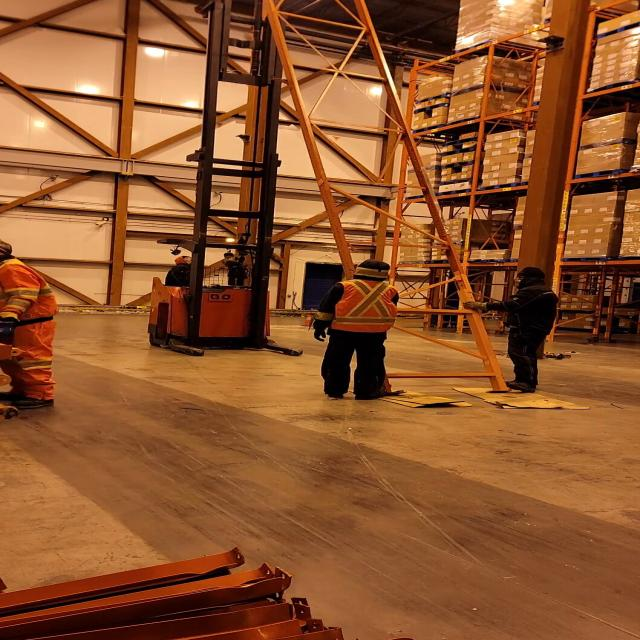forklift: (146, 150, 310, 359)
human: (309, 256, 407, 402), (464, 264, 566, 396), (0, 237, 64, 412), (152, 255, 221, 289)
objectofinterest: (255, 0, 524, 398), (448, 383, 594, 412), (359, 383, 473, 410)
